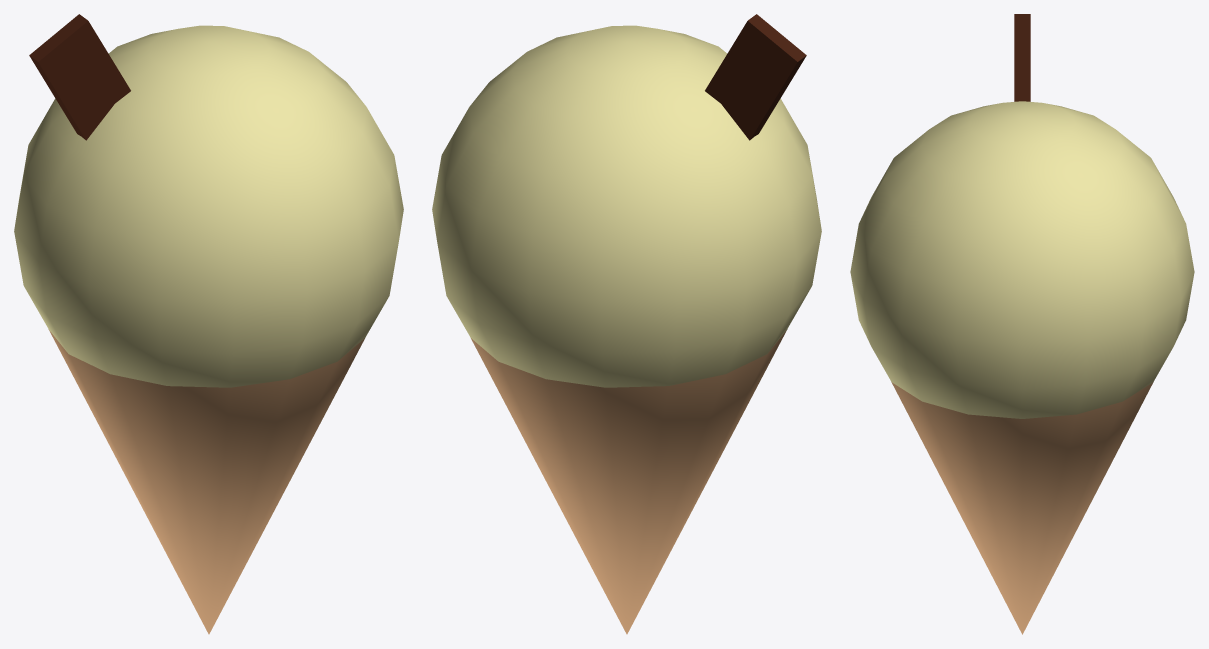
The model's file is ice1.glb.
The picture shows the model from 3 angles, left to right: view 1: azimuth 30°, elevation 25°; view 2: azimuth 150°, elevation 25°; view 3: azimuth 270°, elevation 25°; orthographic projection. The views are drawn at different scales.
Visible parts, largest first — view 1: Sphere, Cone, Cube; view 2: Sphere, Cone, Cube; view 3: Sphere, Cone, Cube.
Boxes of the visible parts, box(x1,y1,x2,y2) form: Sphere: box(14, 25, 403, 387); Cone: box(48, 329, 364, 634); Cube: box(29, 14, 130, 140); Sphere: box(432, 25, 821, 387); Cone: box(471, 329, 787, 634); Cube: box(705, 14, 806, 140); Sphere: box(850, 101, 1194, 418); Cone: box(891, 382, 1153, 634); Cube: box(1014, 14, 1030, 101).
Bounding box in the file's own units: 0.395 × 0.7081 × 0.3892.
